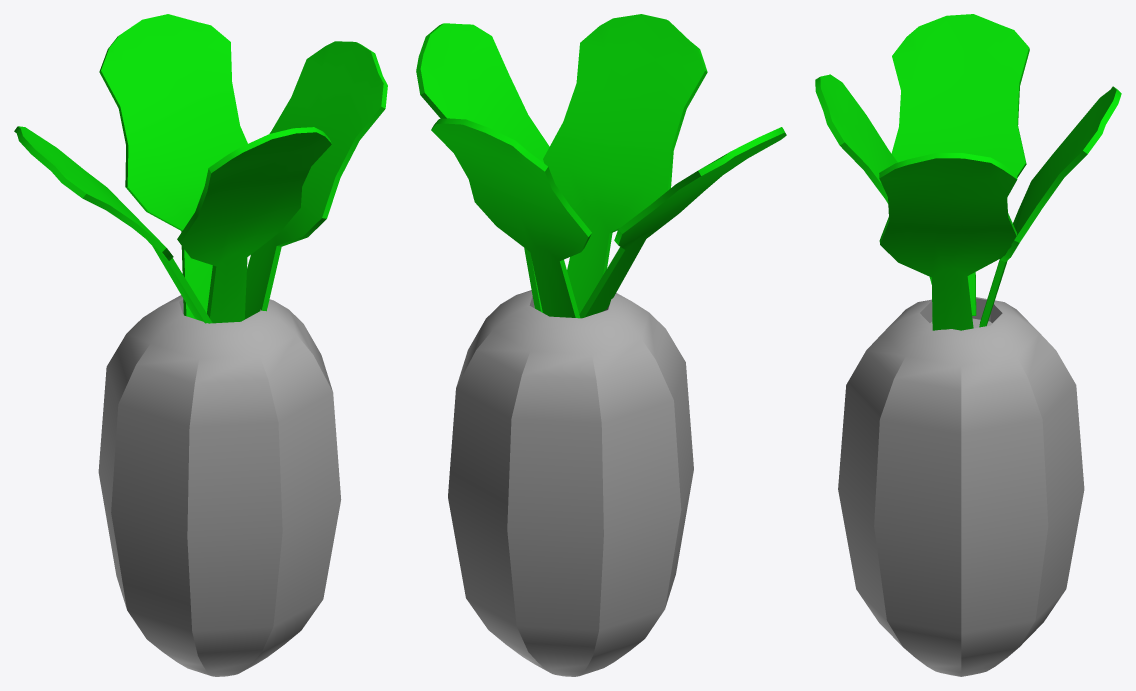
Rendered from Radish.fbx.
The picture shows the model from 3 angles, left to right: view 1: azimuth 30°, elevation 25°; view 2: azimuth 150°, elevation 25°; view 3: azimuth 270°, elevation 25°; orthographic projection. The views are drawn at different scales.
Visible parts, largest first — view 1: pCylinder4; view 2: pCylinder4; view 3: pCylinder4.
Boxes of the visible parts, x1,y1,x2,y2 form: pCylinder4: [14, 14, 387, 676]; pCylinder4: [416, 14, 786, 676]; pCylinder4: [815, 14, 1121, 676].
Size of the model in its own units: 3.43 by 5.78 by 2.74.
